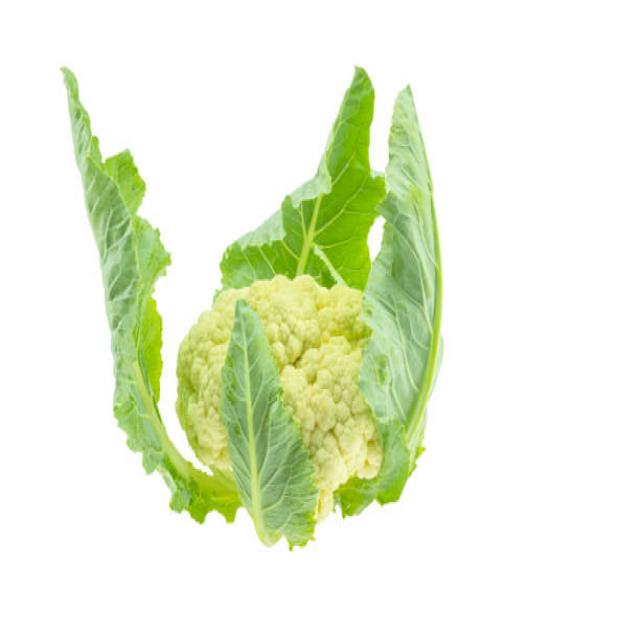Cauliflower head: (44, 50, 510, 599)
